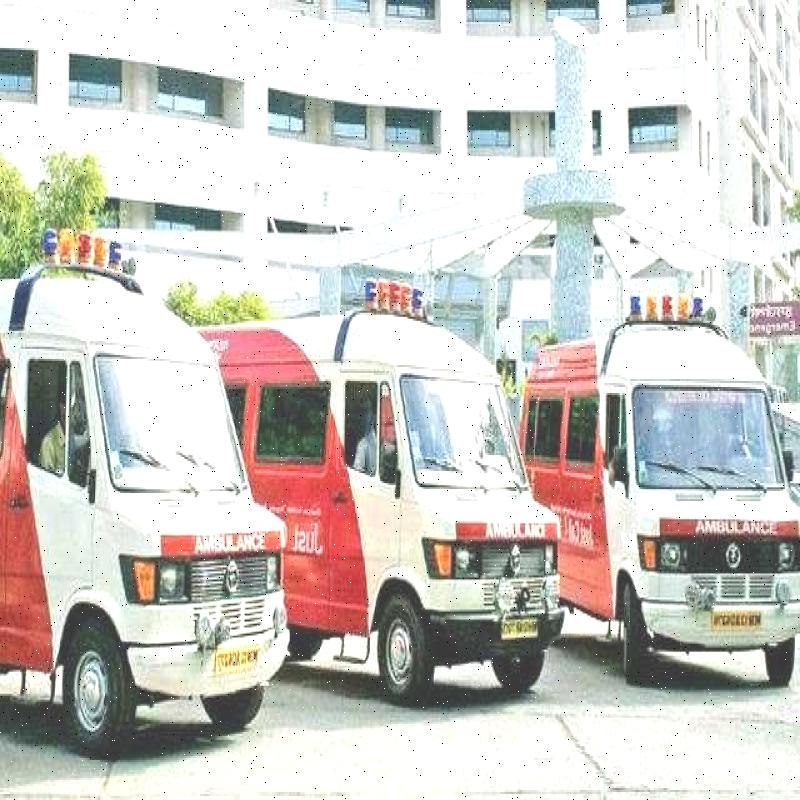AmbulanceSiren: (350, 276, 436, 328), (34, 232, 132, 277), (618, 283, 712, 325)
